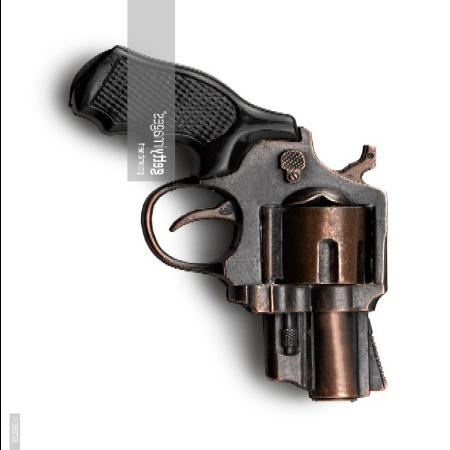Pistol: (69, 45, 396, 409)
